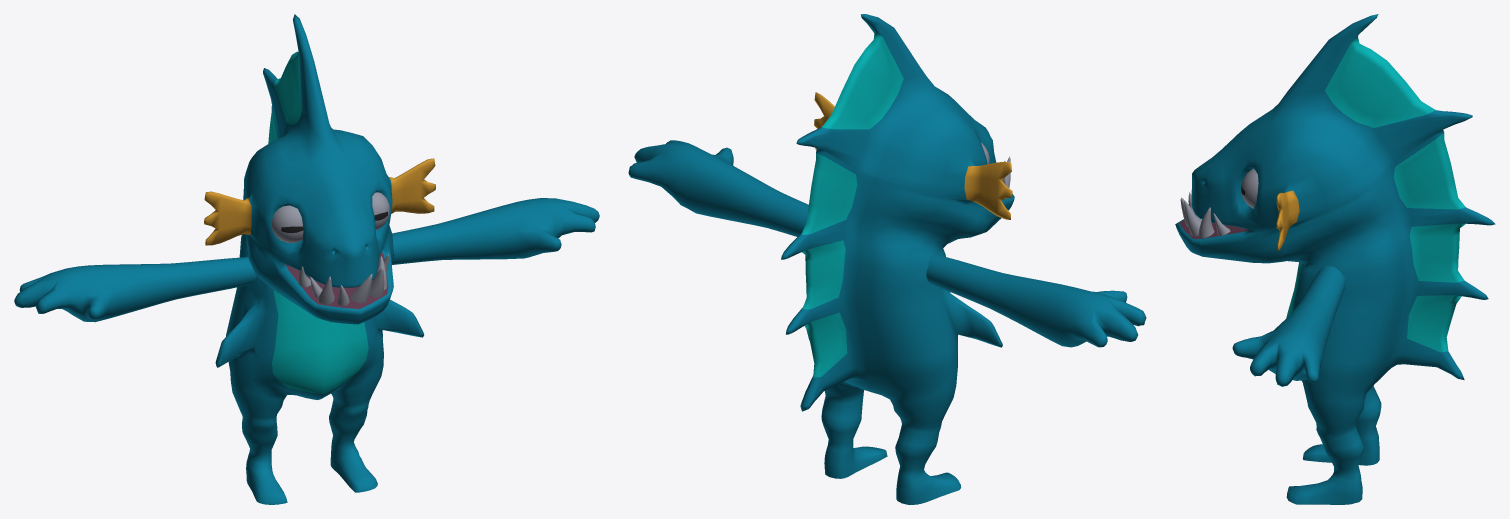
Rendered from Fish.fbx.
3 renders of one model, left to right at view 1: azimuth 30°, elevation 25°; view 2: azimuth 150°, elevation 25°; view 3: azimuth 270°, elevation 25°, orthographic. The views are drawn at different scales.
Parts seen in each view (by area): view 1: Fish; view 2: Fish; view 3: Fish.
Part boxes in pixels (x1,y1,x2,y2): Fish: (14, 14, 599, 504); Fish: (628, 14, 1146, 504); Fish: (1175, 14, 1495, 504).
Bounding box in the file's own units: 380 × 311 × 193.
